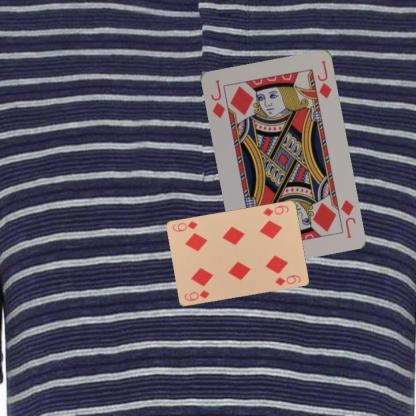6d: (260, 203, 289, 218), (181, 288, 211, 302)
Jd: (207, 77, 226, 119), (338, 197, 357, 239)
